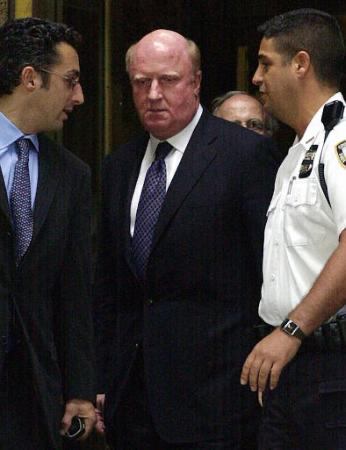Face: (132, 51, 190, 130), (250, 41, 294, 124), (54, 45, 87, 130), (224, 100, 267, 147)
